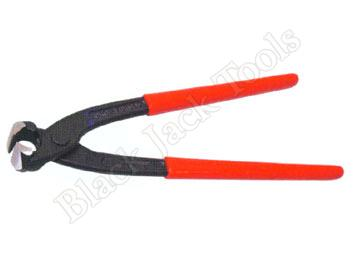Pincers: (1, 68, 348, 190)
